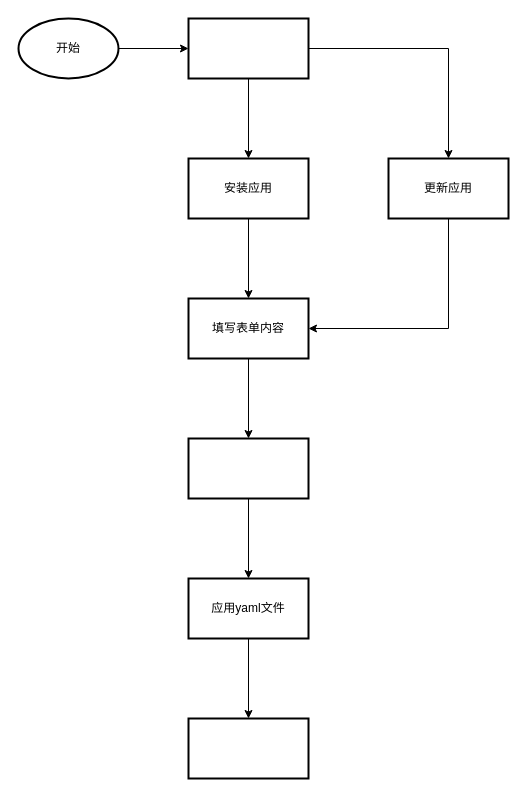
This 526x796 diagram has some shape labels left out. Each missing label, with the centre of its shape:
添加模板: (x=248, y=48)
生成yaml文件: (x=248, y=468)
